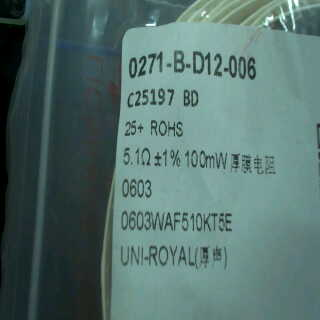5.1R: (121, 144, 153, 174)
